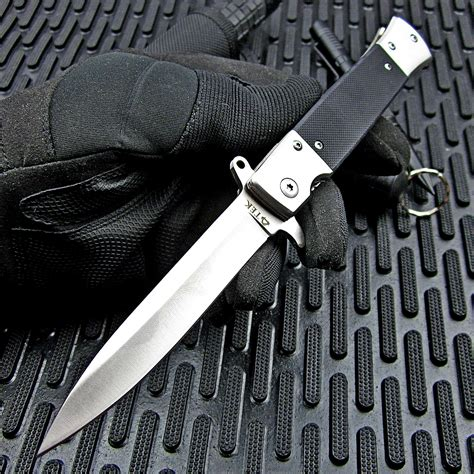knife: (38, 7, 436, 455)
